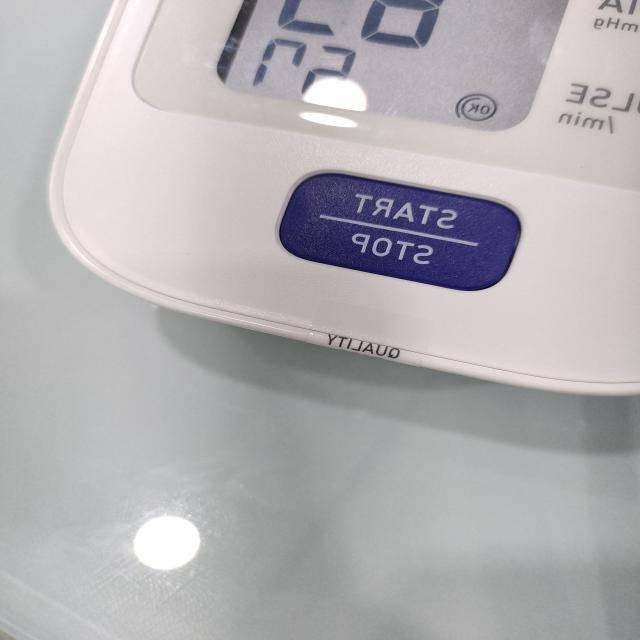bp: (48, 0, 640, 396)
